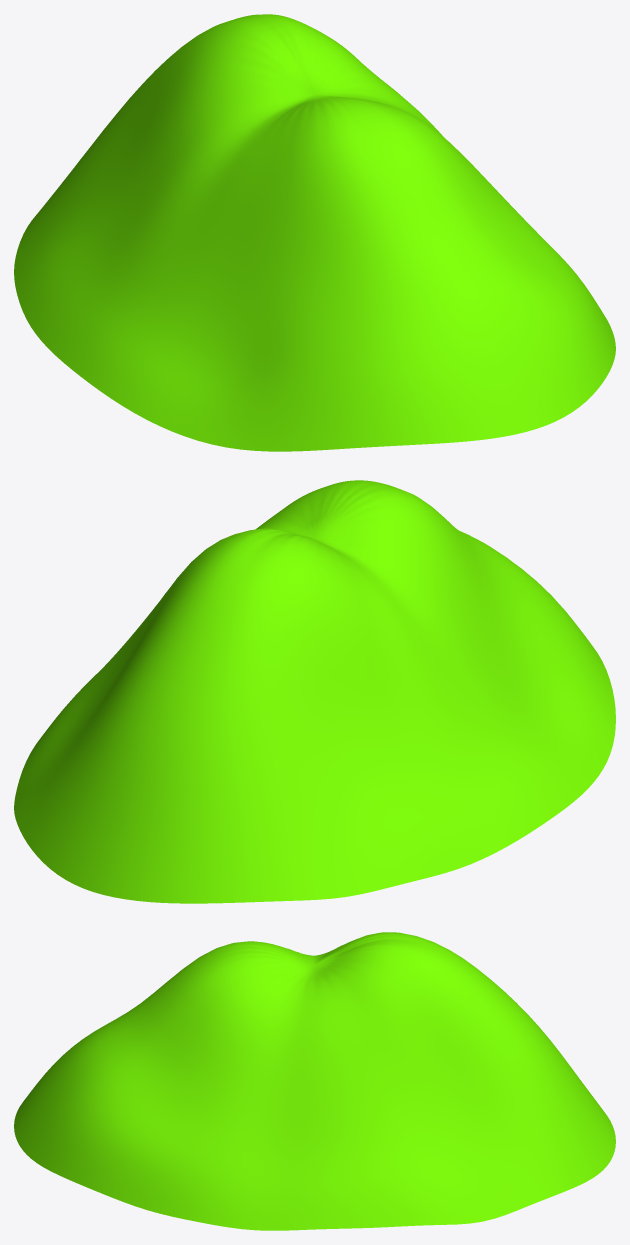
Rendered from Montañita_2.fbx.
The picture shows the model from 3 angles, top to bottom: view 1: azimuth 30°, elevation 25°; view 2: azimuth 150°, elevation 25°; view 3: azimuth 270°, elevation 25°; orthographic projection. The views are drawn at different scales.
Parts seen in each view (by area): view 1: Sphere.001; view 2: Sphere.001; view 3: Sphere.001.
Part boxes in pixels (x1=…): Sphere.001: x1=14, y1=14, x2=615, y2=451; Sphere.001: x1=14, y1=480, x2=615, y2=903; Sphere.001: x1=14, y1=932, x2=615, y2=1230.
Size of the model in its own units: 312 by 168 by 438.
